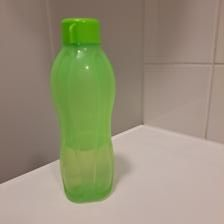bottle: (51, 14, 116, 207)
